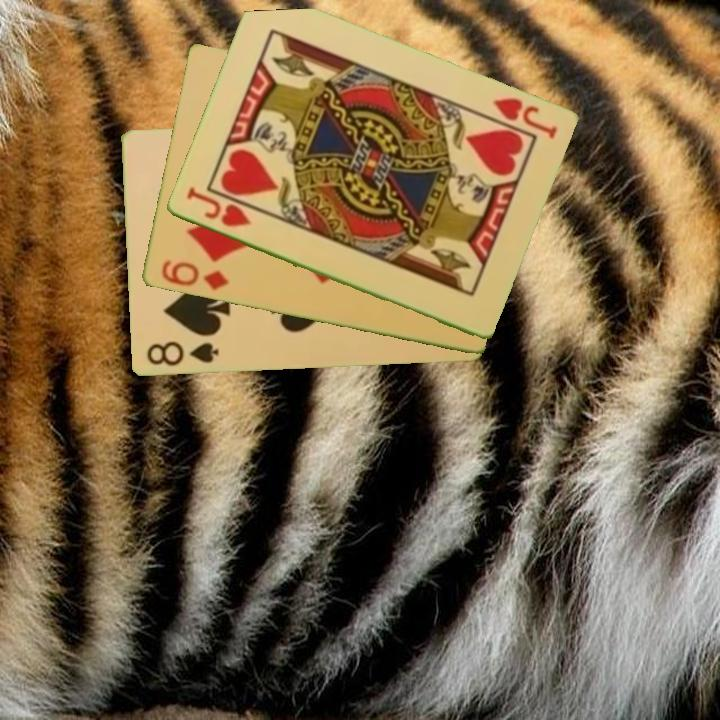6d: (157, 257, 231, 294)
8s: (142, 338, 222, 369)
Jh: (489, 94, 560, 142), (182, 184, 254, 231)
